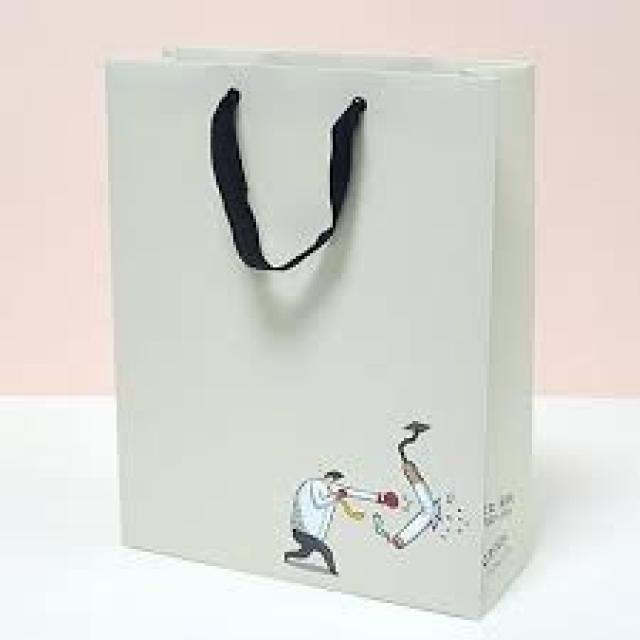paper bag: (84, 32, 551, 620)
